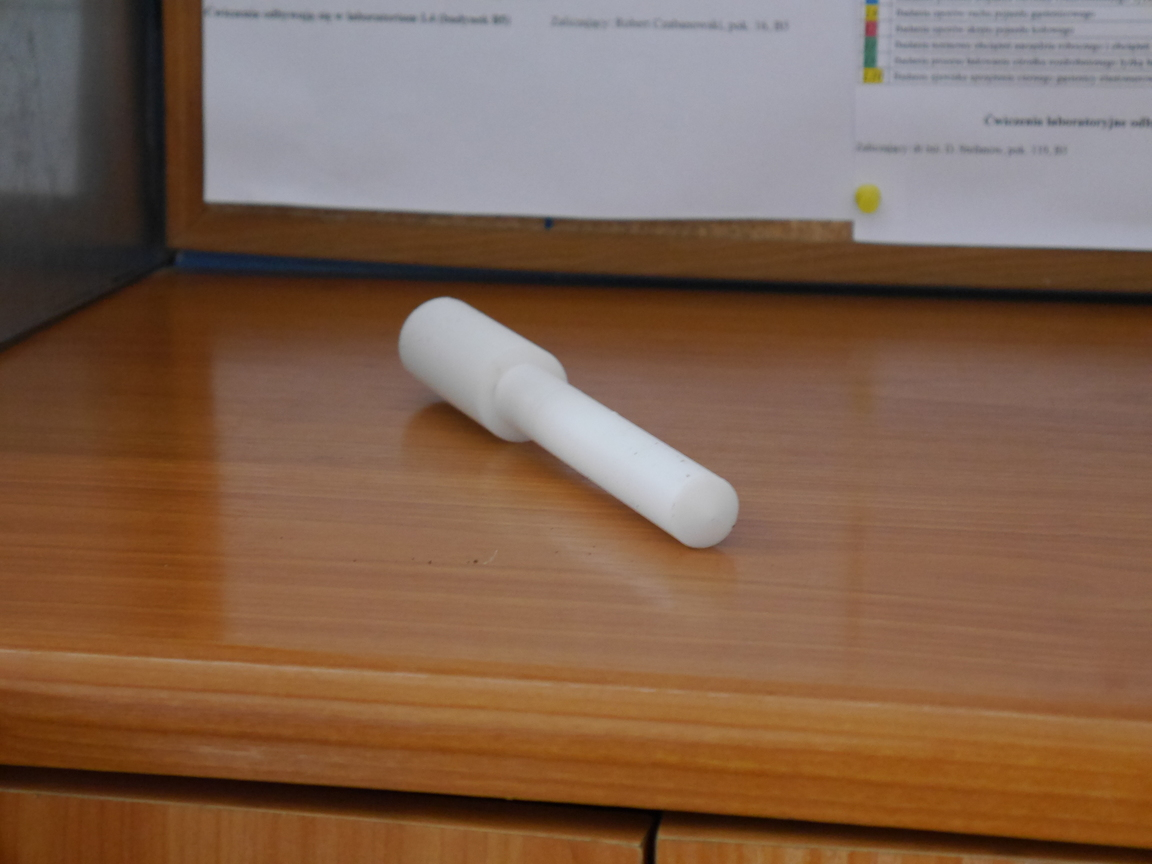cargo_g: (396, 295, 740, 553)
